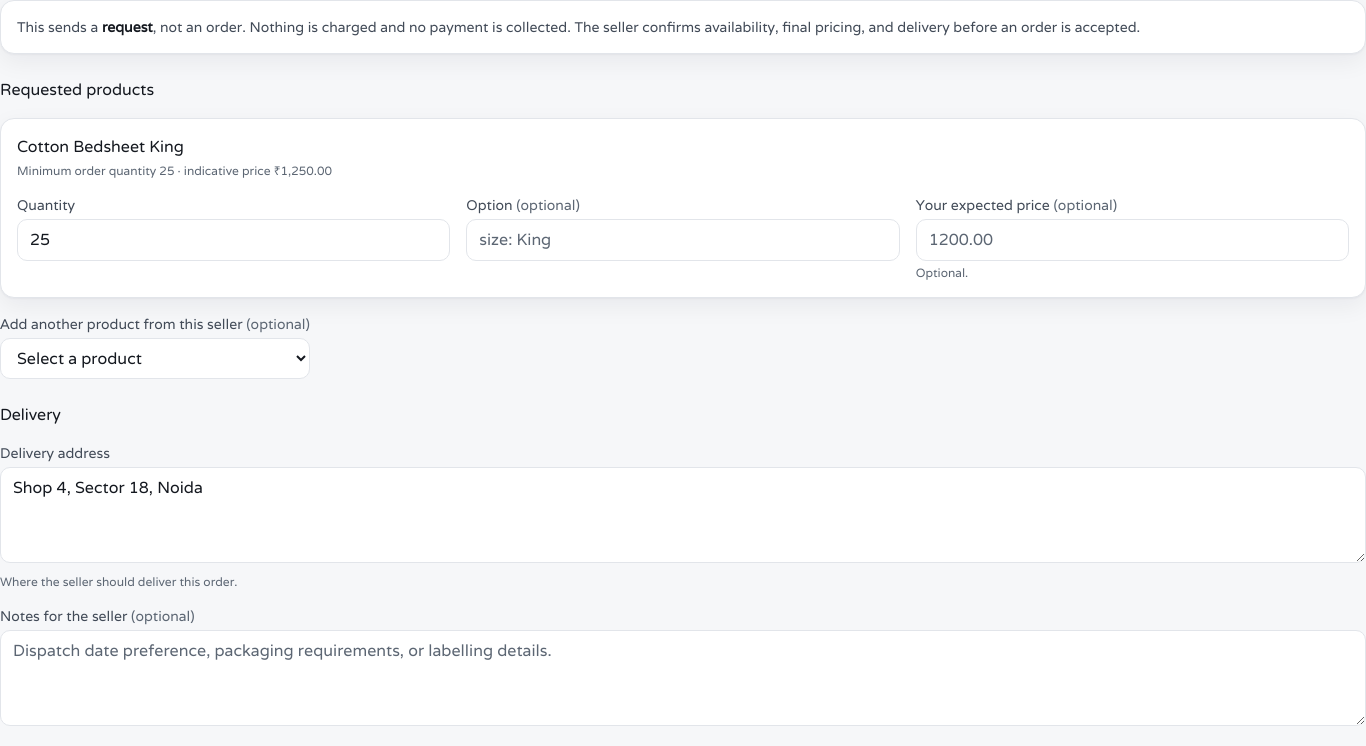
Test: OrderRequestForm › offers the seller's other listings but never another seller's
Select "Pillow Cover Pair" in the dropdown labelled "Add another product from this seller (optional)" at [155, 358], box [0,338,310,379]
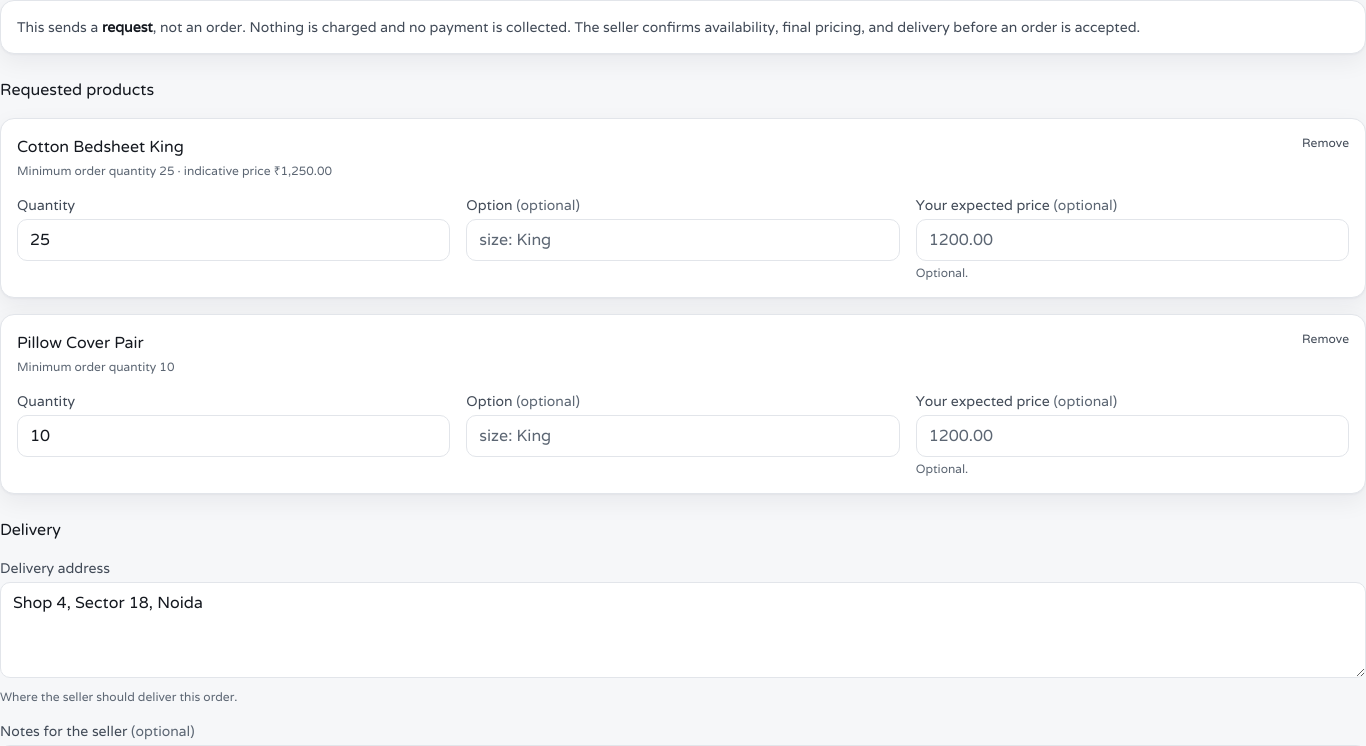
Check: the text "Pillow Cover Pair" is shown, box [17,331,144,355]
Check: the number of fields labelled "Quantity" is 2, box [17,219,450,261]; [17,415,450,457]
Every line can be removed once there is more than one.
Click the button "Remove" in the row of "Cotton Bedsheet King" at [1326, 143], box [1302,135,1349,151]
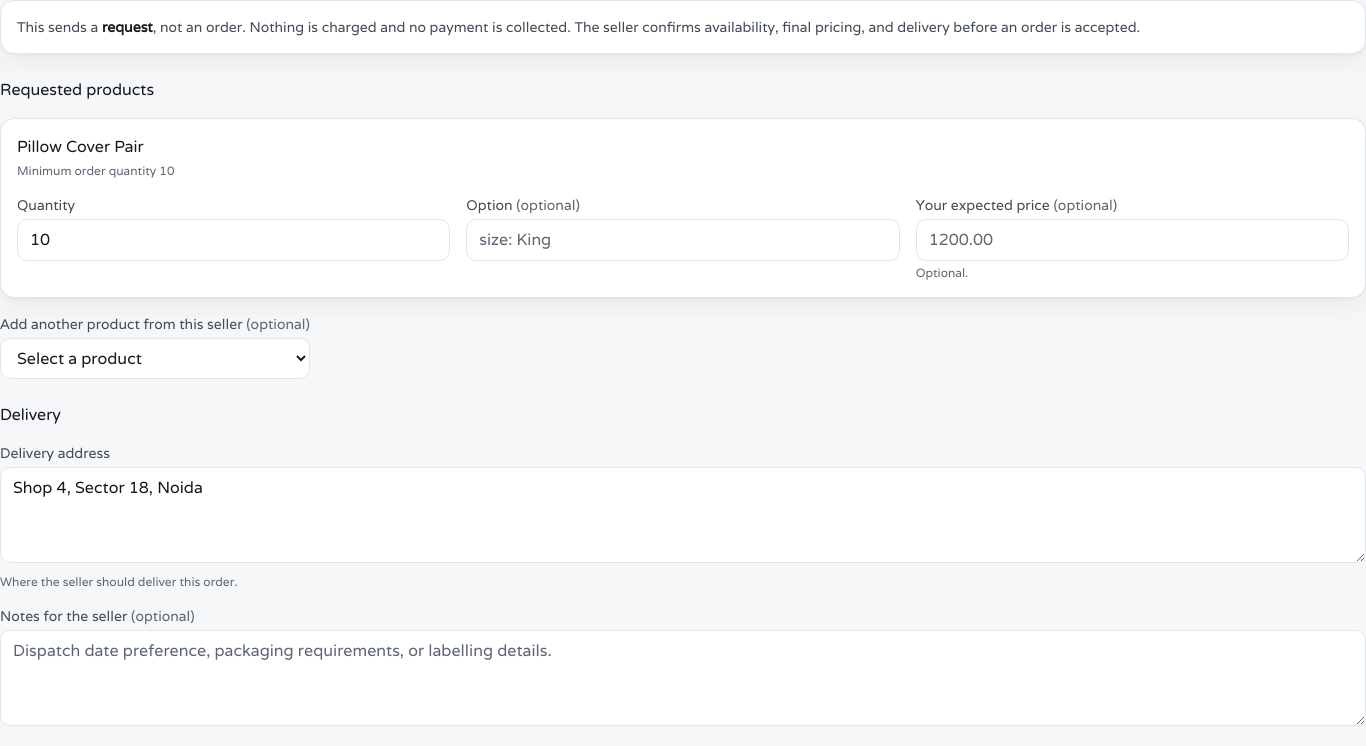
Check: the number of fields labelled "Quantity" is 1, box [17,219,450,261]
